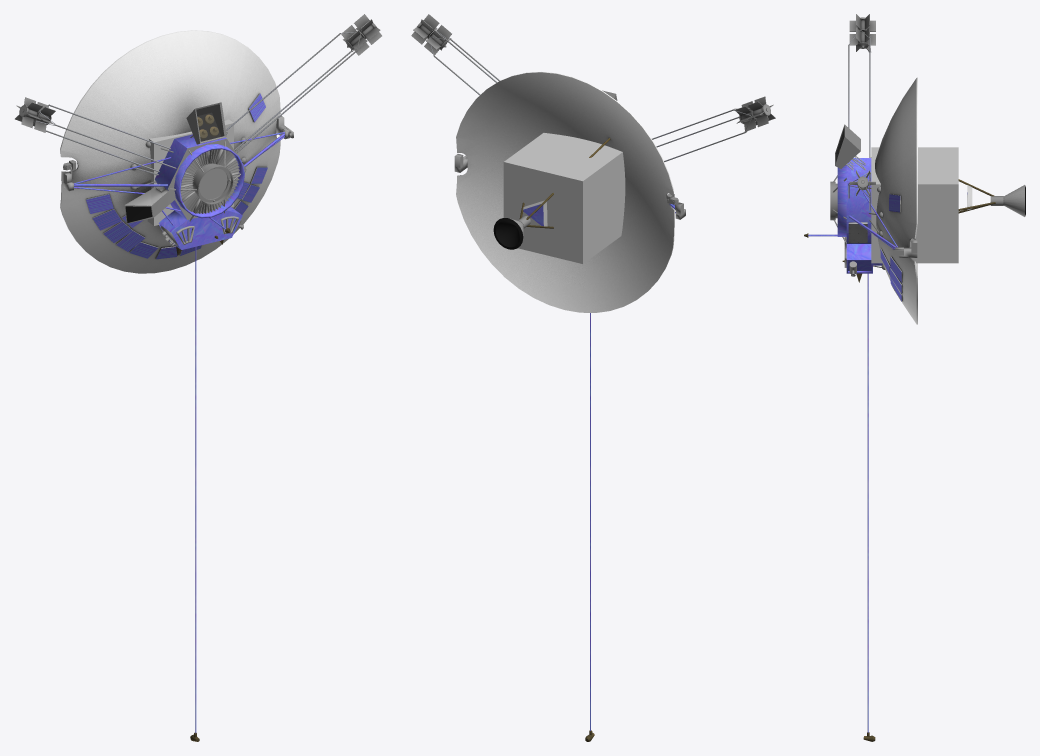
File: Pioneer.obj
The picture shows the model from 3 angles, left to right: view 1: azimuth 30°, elevation 25°; view 2: azimuth 150°, elevation 25°; view 3: azimuth 270°, elevation 25°; orthographic projection. The views are drawn at different scales.
Visible parts, largest first — view 1: AO_dish_Pioneer.014, Foil_gold_Pioneer.020, Silver_Pioneer.040, Norm_silver_Pioneer.031, Tex_02_Pioneer.021, Foil_silver_Pioneer.007, AO_rtg_Pioneer.005, _root_Cube.004, Tex_black_Pioneer.041, Foil_trans_Pioneer.042; view 2: AO_dish_Pioneer.014, _root_Cube.004, AO_rtg_Pioneer.005, Tex_02_Pioneer.021, Foil_gold_Pioneer.020, Tex_black_Pioneer.041; view 3: AO_dish_Pioneer.014, _root_Cube.004, Foil_silver_Pioneer.007, Foil_gold_Pioneer.020, Silver_Pioneer.040, Tex_02_Pioneer.021, AO_rtg_Pioneer.005, Norm_silver_Pioneer.031, Tex_01_Pioneer.022.
Part boxes in pixels (x1,y1,x2,y2): AO_dish_Pioneer.014: (60, 30, 280, 273); Foil_gold_Pioneer.020: (63, 116, 293, 733); Silver_Pioneer.040: (63, 93, 267, 258); Norm_silver_Pioneer.031: (86, 93, 267, 259); Tex_02_Pioneer.021: (34, 32, 360, 741); Foil_silver_Pioneer.007: (63, 118, 278, 249); AO_rtg_Pioneer.005: (15, 14, 381, 132); _root_Cube.004: (147, 119, 233, 225); Tex_black_Pioneer.041: (125, 104, 224, 222); Foil_trans_Pioneer.042: (196, 104, 223, 141); AO_dish_Pioneer.014: (456, 72, 674, 312); _root_Cube.004: (503, 133, 625, 263); AO_rtg_Pioneer.005: (411, 14, 775, 131); Tex_02_Pioneer.021: (429, 30, 756, 741); Foil_gold_Pioneer.020: (454, 154, 685, 730); Tex_black_Pioneer.041: (493, 218, 523, 249); AO_dish_Pioneer.014: (875, 77, 1024, 324); _root_Cube.004: (871, 147, 958, 263); Foil_silver_Pioneer.007: (846, 158, 917, 273); Foil_gold_Pioneer.020: (808, 165, 967, 732); Silver_Pioneer.040: (830, 124, 1003, 301); Tex_02_Pioneer.021: (804, 30, 995, 741); AO_rtg_Pioneer.005: (849, 14, 875, 195); Norm_silver_Pioneer.031: (880, 194, 901, 301); Tex_01_Pioneer.022: (848, 223, 867, 242).
Size of the model in its own units: 4.52 by 8.25 by 2.54.
